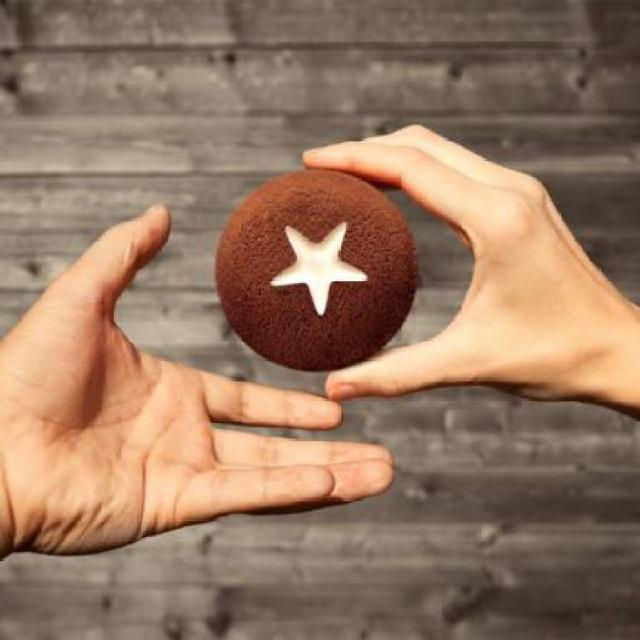Merendine packaged: (211, 165, 426, 372)
